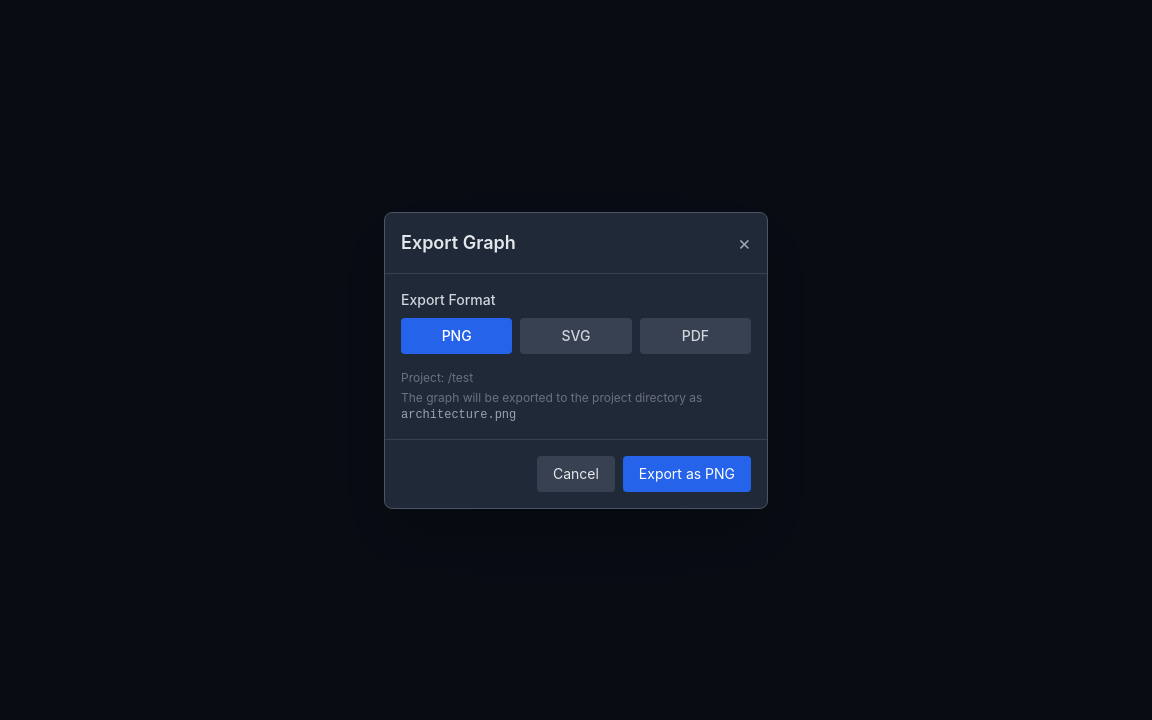
Test: ExportDialog › shows success message after successful export
Click the button "Export as PNG" at (687, 474), box [623,456,751,492]
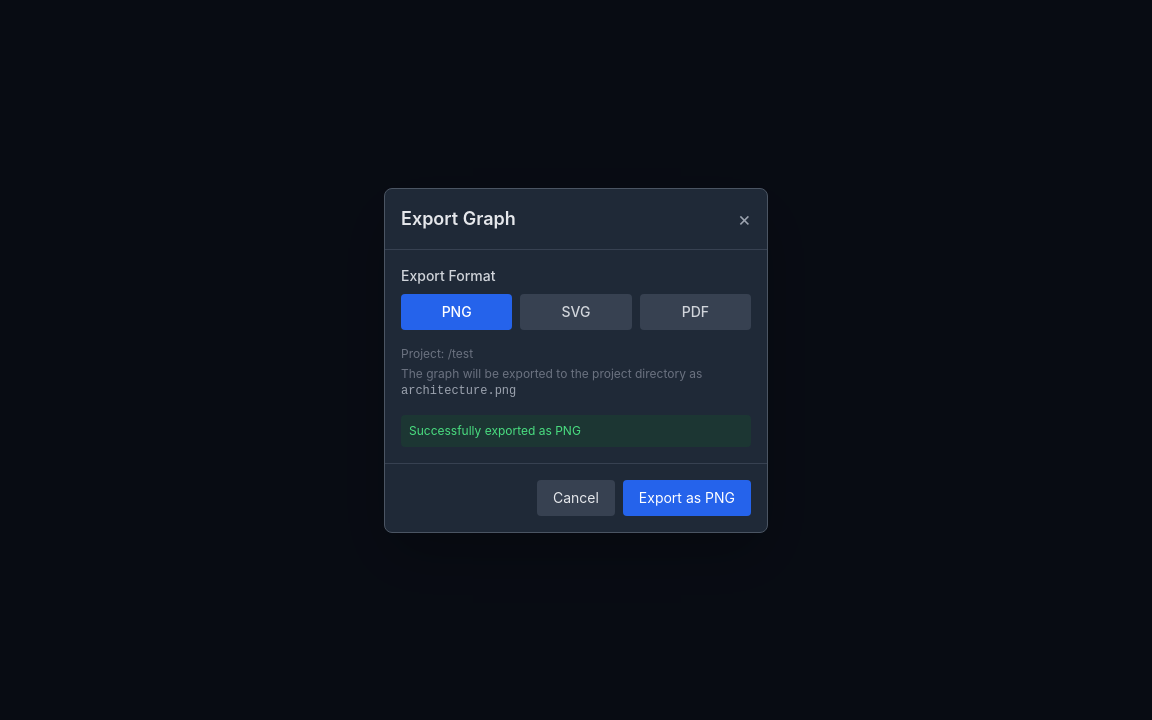
expect the text "Successfully exported as PNG" is shown: met, box [401,414,751,446]
